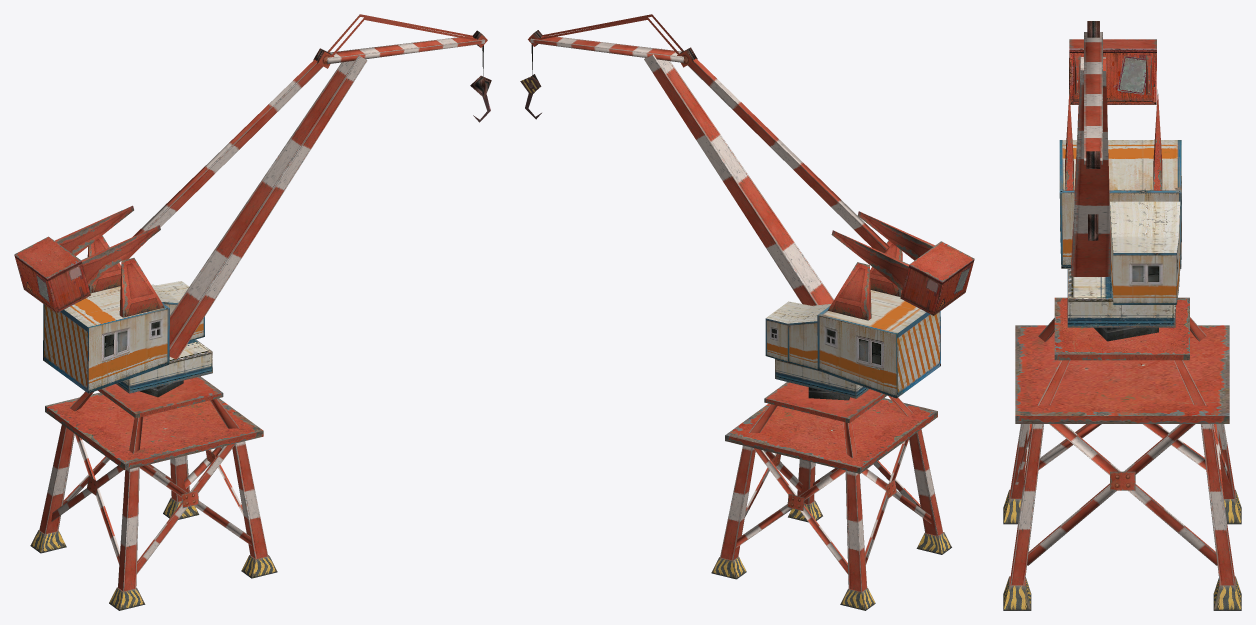
Rendered from Prop_Wj001_lod2.glb.
The picture shows the model from 3 angles, left to right: view 1: azimuth 30°, elevation 25°; view 2: azimuth 150°, elevation 25°; view 3: azimuth 270°, elevation 25°; orthographic projection. The views are drawn at different scales.
Visible parts, largest first — view 1: xiutz_wj001_lod2_0; view 2: xiutz_wj001_lod2_0; view 3: xiutz_wj001_lod2_0.
Part boxes in pixels (x1,y1,x2,y2): xiutz_wj001_lod2_0: [14, 14, 491, 610]; xiutz_wj001_lod2_0: [520, 14, 974, 610]; xiutz_wj001_lod2_0: [1003, 21, 1241, 610].
Bounding box in the file's own units: 68.78 × 72.58 × 23.23.
Materials: 1 (1 with a texture image).
